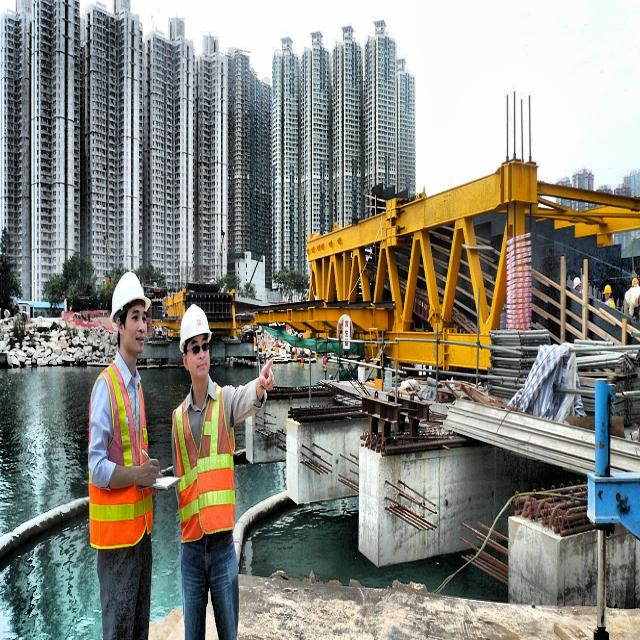safety_helmet: (110, 267, 153, 324), (173, 300, 213, 353)
safety_jacket: (85, 351, 160, 545), (168, 385, 241, 552)
